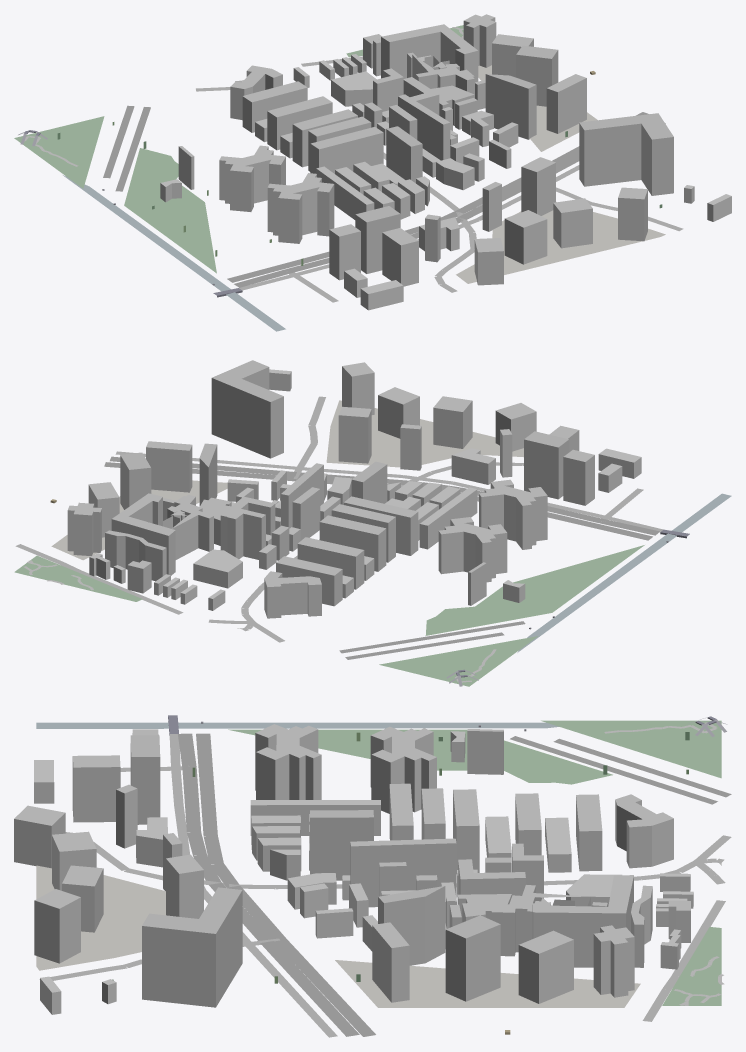
The picture shows the model from 3 angles, top to bottom: view 1: azimuth 30°, elevation 25°; view 2: azimuth 150°, elevation 25°; view 3: azimuth 270°, elevation 25°; orthographic projection. The views are drawn at different scales.
Size of the model in its own units: 562 by 63.6 by 524.
